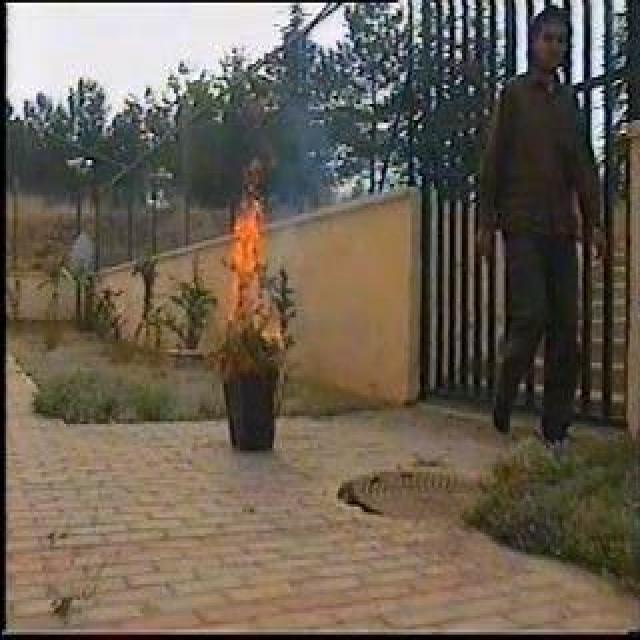fire: (225, 182, 257, 334)
smoke: (274, 104, 322, 275)
